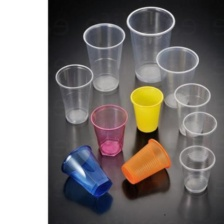glass: (127, 4, 180, 83), (82, 17, 127, 97), (57, 142, 116, 199), (50, 59, 100, 126), (119, 135, 173, 189), (159, 43, 200, 109), (171, 79, 213, 139), (177, 109, 220, 165), (91, 99, 132, 157), (129, 80, 168, 136), (175, 145, 216, 197)
